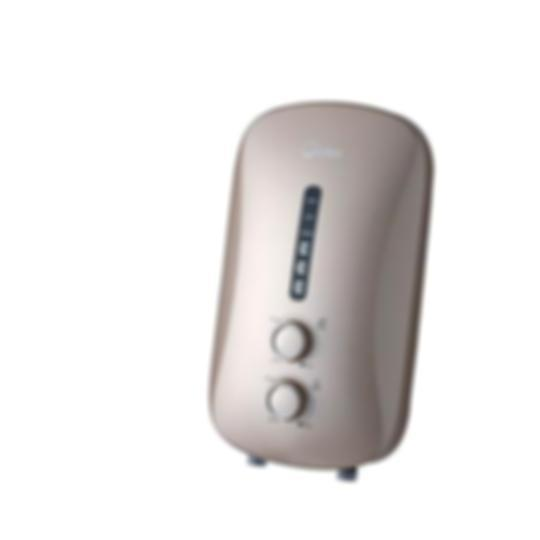Ducha: (191, 63, 460, 498)
